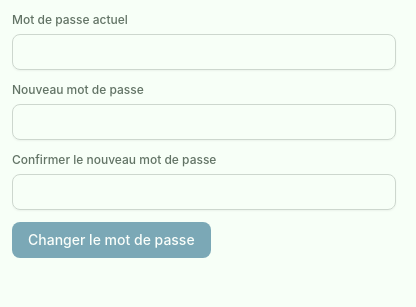
Scenario: ChangePasswordForm › changes the password and confirms
Step 1. Type "old-password" into the password field labelled "Mot de passe actuel" → (204, 52), box [12,34,396,70]
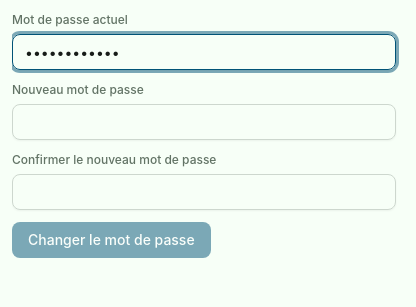
Step 2. Type "new-password-1" into the password field labelled "Nouveau mot de passe" → (204, 122), box [12,104,396,140]
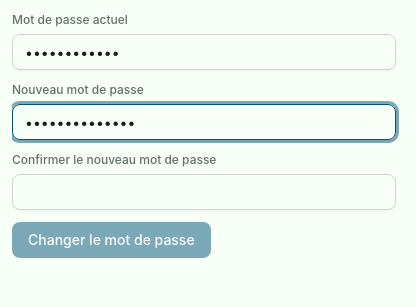
Step 3. Type "new-password-1" into the password field labelled "Confirmer le nouveau mot de passe" → (204, 192), box [12,174,396,210]
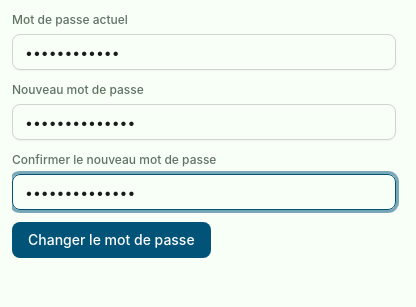
Step 4. Click the button "Changer le mot de passe" → click(111, 240), box [12,222,211,258]
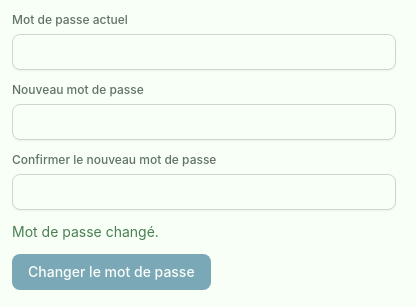
Now the text "Mot de passe changé." is shown, box [12,223,159,240]
